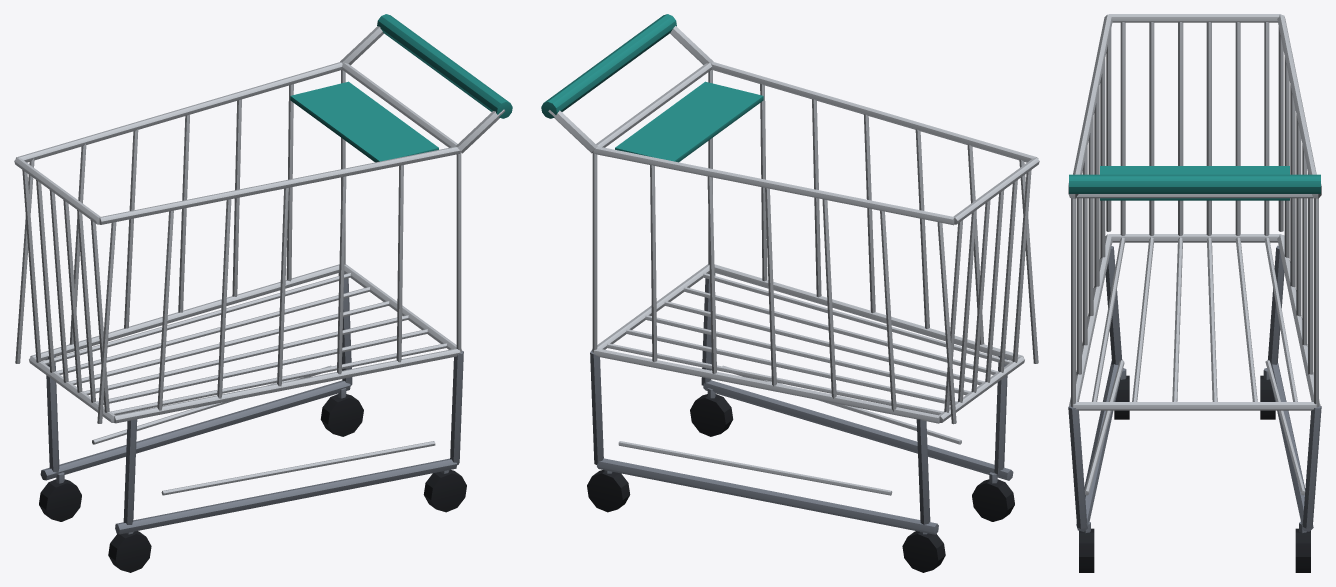
Rendered from shopping_cart_01.glb.
The picture shows the model from 3 angles, left to right: view 1: azimuth 30°, elevation 25°; view 2: azimuth 150°, elevation 25°; view 3: azimuth 270°, elevation 25°; orthographic projection. The views are drawn at different scales.
Visible parts, largest first — view 1: shopping_cart_01_LOD0; view 2: shopping_cart_01_LOD0; view 3: shopping_cart_01_LOD0.
Part boxes in pixels (left/top/right/bottom): shopping_cart_01_LOD0: left=14, top=14, right=512, bottom=572; shopping_cart_01_LOD0: left=541, top=14, right=1039, bottom=572; shopping_cart_01_LOD0: left=1068, top=14, right=1321, bottom=572.
Size of what is drawn, in the model's own units: 1.09 by 1.05 by 0.5737.
1 material, 1 textured.
